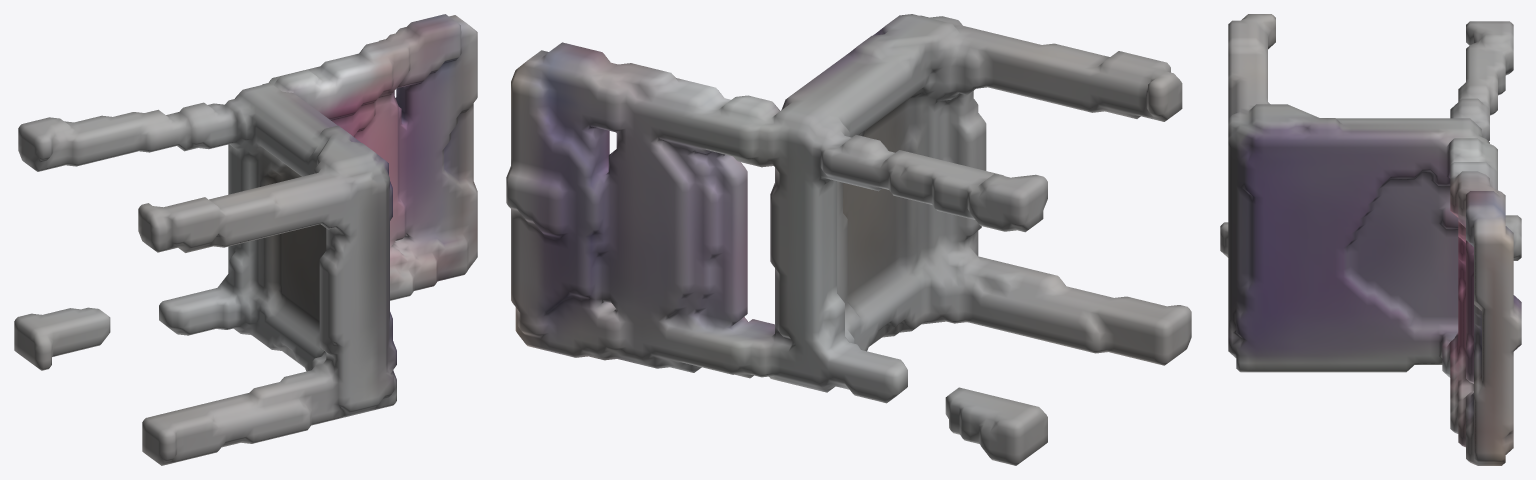
Rendered from A metal chair with black legs and a purple cushion.glb.
3 views of the same model, side by side, from view 1: azimuth 30°, elevation 25°; view 2: azimuth 150°, elevation 25°; view 3: azimuth 270°, elevation 25° (orthographic). The views are drawn at different scales.
Parts seen in each view (by area): view 1: A metal chair with black legs and a purple cushion; view 2: A metal chair with black legs and a purple cushion; view 3: A metal chair with black legs and a purple cushion.
Part boxes in pixels (x1,y1,x2,y2): A metal chair with black legs and a purple cushion: (14,14,477,465); A metal chair with black legs and a purple cushion: (506,14,1191,465); A metal chair with black legs and a purple cushion: (1220,14,1521,465).
Size of the model in its own units: 64 by 35 by 38.
